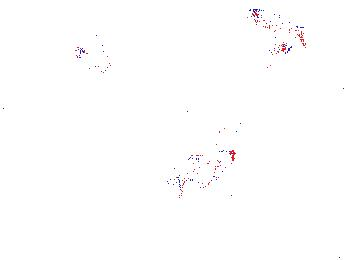X-ray fish: (201, 30, 241, 61), (1, 40, 32, 63)
glassfish: (103, 116, 246, 181)
redtail glassfish: (170, 147, 236, 192), (243, 5, 308, 49), (71, 41, 113, 73), (265, 34, 294, 68)
